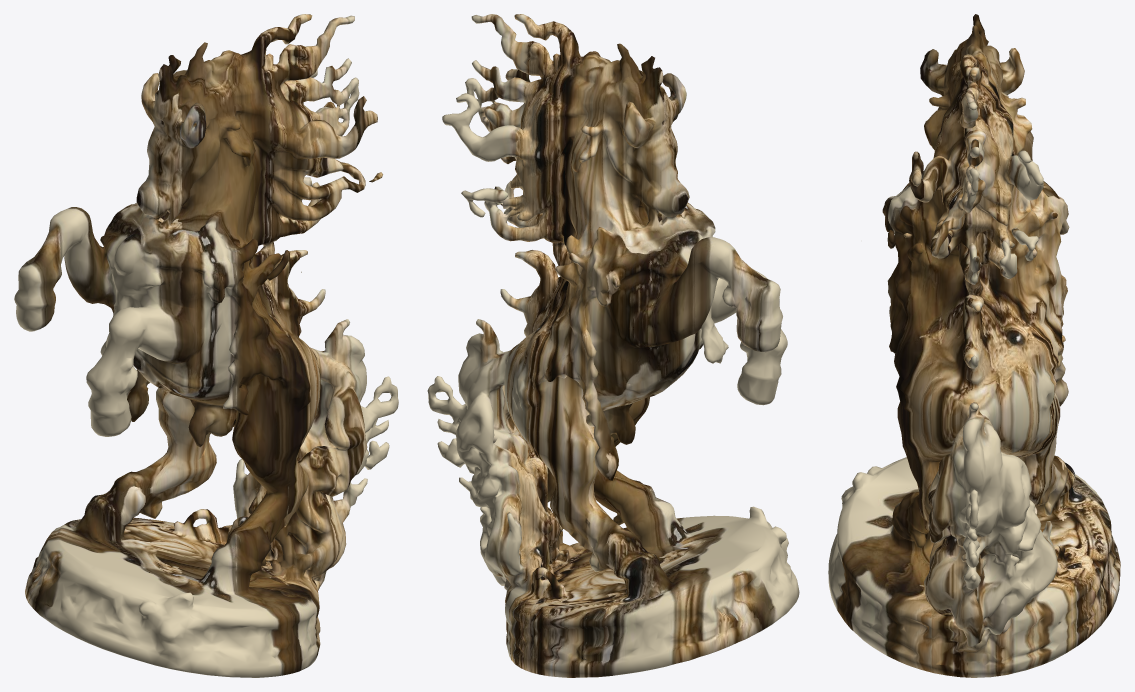
Rendered from ashva.glb.
3 views of the same model, side by side, from view 1: azimuth 30°, elevation 25°; view 2: azimuth 150°, elevation 25°; view 3: azimuth 270°, elevation 25° (orthographic).
Parts seen in each view (by area): view 1: geometry_0; view 2: geometry_0; view 3: geometry_0.
Boxes of the visible parts, x1=… form: geometry_0: x1=14, y1=14, x2=398, y2=677; geometry_0: x1=427, y1=14, x2=799, y2=677; geometry_0: x1=828, y1=14, x2=1120, y2=677.
Bounding box in the file's own units: 1.26 × 2.02 × 0.8735.
Materials: 1 (1 with a texture image).
